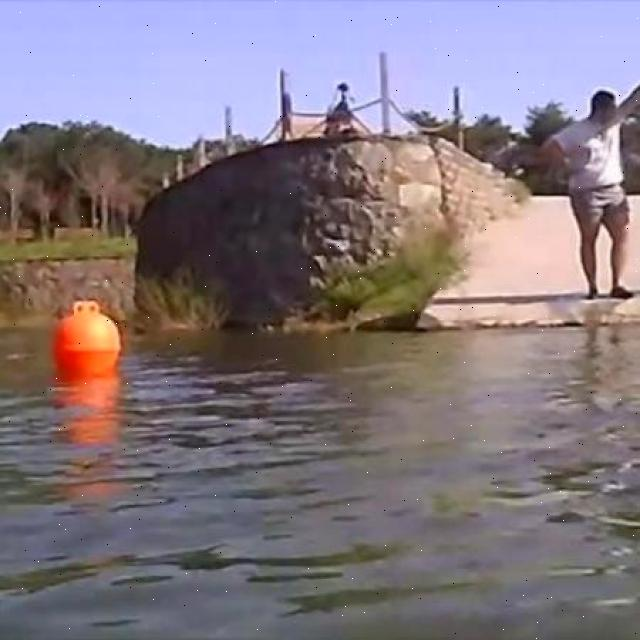buoy: (51, 297, 122, 389)
